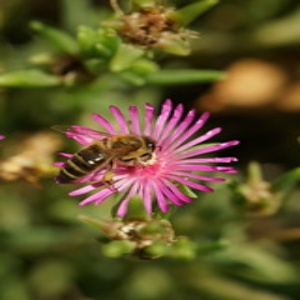bee: (51, 134, 167, 186)
